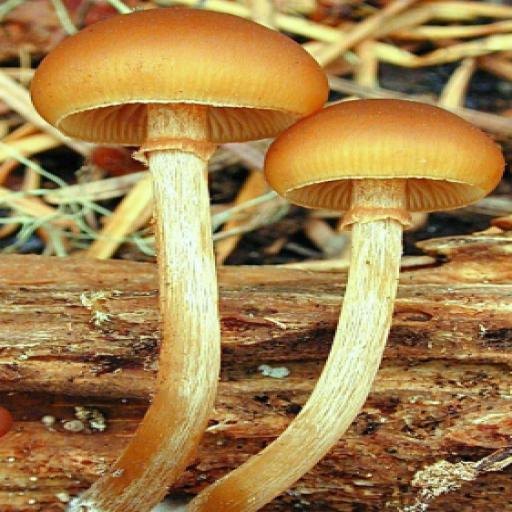mushroom: (27, 2, 512, 281)
